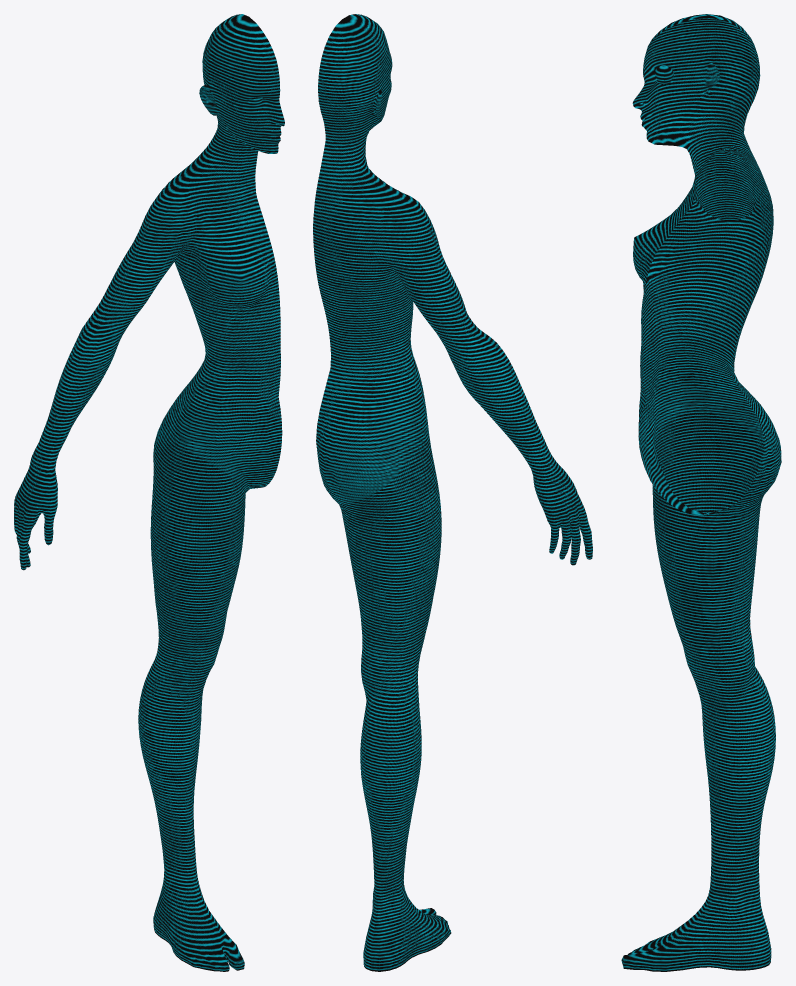
Rendered from manmade hologram f.glb.
3 views of the same model, side by side, from view 1: azimuth 30°, elevation 25°; view 2: azimuth 150°, elevation 25°; view 3: azimuth 270°, elevation 25° (orthographic). The views are drawn at different scales.
Visible parts, largest first — view 1: FemaleHologram; view 2: FemaleHologram; view 3: FemaleHologram.
Boxes of the visible parts, x1=… form: FemaleHologram: x1=14, y1=14, x2=284, y2=971; FemaleHologram: x1=313, y1=14, x2=592, y2=971; FemaleHologram: x1=621, y1=14, x2=781, y2=971.
Bounding box in the file's own units: 0.4638 × 1.69 × 0.2518.
1 material, 1 textured.
